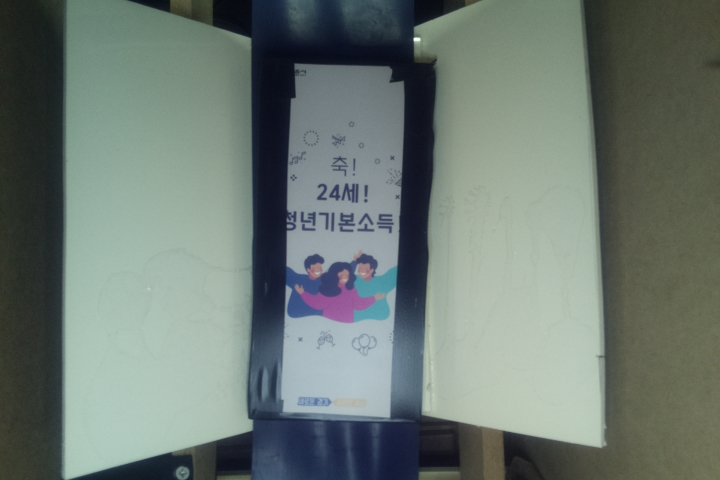book: (245, 55, 437, 425)
